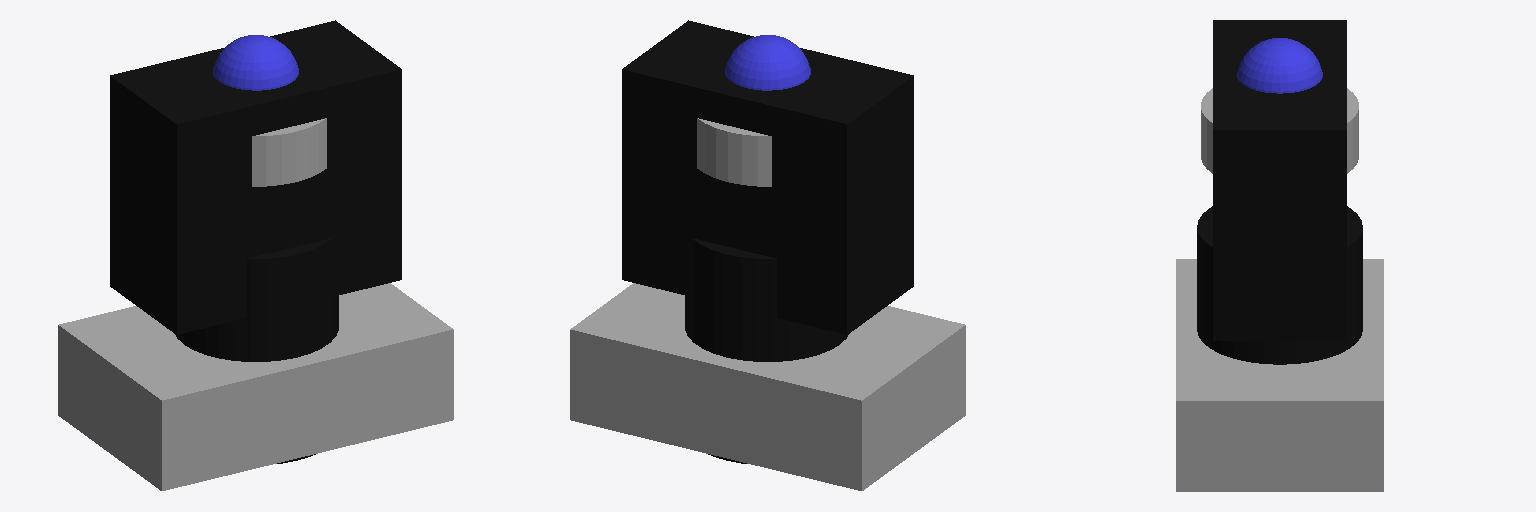
The robot description file, URDF, robot "evolved_robot":
<?xml version="1.0"?>
<robot name="evolved_robot">
  <material name="metal">
    <color rgba="0.7 0.7 0.7 1.0"/>
  </material>
  <material name="plastic">
    <color rgba="0.3 0.3 0.9 1.0"/>
  </material>
  <material name="rubber">
    <color rgba="0.1 0.1 0.1 1.0"/>
  </material>
  <material name="red">
    <color rgba="1.0 0.0 0.0 1.0"/>
  </material>
  <material name="wheel_material">
    <color rgba="0.2 0.2 0.2 1.0"/>
  </material>
  <link name="base_link">
    <visual>
      <geometry><box size="0.30694219765450376 0.18882328908058985 0.09127818576248228"/></geometry>
      <material name="metal"/>
    </visual>
    <collision>
      <geometry><box size="0.30694219765450376 0.18882328908058985 0.09127818576248228"/></geometry>
    </collision>
    <inertial>
      <mass value="5.0"/>
      <inertia ixx="0.03665495141275185" ixy="0" ixz="0" 
               iyy="0.08545434991422224" iyz="0" 
               izz="0.10822312266682371"/>
    </inertial>
  </link>
  <link name="link1">
    <visual>
      <geometry><cylinder radius="0.07570620283655916" length="0.20718310892229114"/></geometry>
      <material name="rubber"/>
    </visual>
    <collision>
      <geometry><cylinder radius="0.07570620283655916" length="0.20718310892229114"/></geometry>
    </collision>
    <inertial>
      <mass value="0.5"/>
      <inertia ixx="0.005009927338874722" ixy="0" ixz="0" 
               iyy="0.005009927338874722" iyz="0" 
               izz="0.0028657145739651186"/>
    </inertial>
  </link>
  <joint name="joint1" type="revolute">
    <parent link="base_link"/>
    <child link="link1"/>
    <origin xyz="0 0 0.04563909288124114" rpy="0 0 0"/>
    <axis xyz="-0.5727563213964585 0.7025951768490016 -0.4222679407306652"/>
    <dynamics damping="0.8837598170592937" friction="0.1"/>
    <limit lower="-2.135188986934218" upper="0.942" effort="100" velocity="100"/>
  </joint>
  <link name="link2">
    <visual>
      <geometry>
        <cylinder radius="0.05414362154083399" length="0.04821138832144219"/>
      </geometry>
      <material name="wheel_material"/>
    </visual>
    <collision>
      <geometry>
        <cylinder radius="0.05414362154083399" length="0.04821138832144219"/>
      </geometry>
    </collision>
    <inertial>
      <mass value="1.0"/>
      <inertia ixx="0.0009265777687126733" ixy="0" ixz="0" 
               iyy="0.0009265777687126733" iyz="0" 
               izz="0.0014657658767785312"/>
    </inertial>
  </link>
  <joint name="joint2" type="continuous">
    <parent link="base_link"/>
    <child link="link2"/>
    <origin xyz="0 0 0" rpy="1.5708 0 0"/>
    <axis xyz="0 0 1"/>
    <dynamics damping="0.22772052215840985" friction="0.1"/>
  </joint>
  <link name="link3">
    <visual>
      <geometry><sphere radius="0.027872111082802867"/></geometry>
      <material name="plastic"/>
    </visual>
    <collision>
      <geometry><sphere radius="0.027872111082802867"/></geometry>
    </collision>
    <inertial>
      <mass value="0.5"/>
      <inertia ixx="0.00031074183048484096" ixy="0" ixz="0" 
               iyy="0.00031074183048484096" iyz="0" 
               izz="0.00031074183048484096"/>
    </inertial>
  </link>
  <joint name="joint3" type="revolute">
    <parent link="base_link"/>
    <child link="link3"/>
    <origin xyz="0 0 0.09563909288124114" rpy="0 0 0"/>
    <axis xyz="-0.7806693274806077 -0.28442484771684934 -0.5564691430189305"/>
    <dynamics damping="0.8006336577116039" friction="0.1"/>
    <limit lower="-1.2224570633500735" upper="1.4118228454048378" effort="100" velocity="100"/>
  </joint>
  <link name="link4">
    <visual>
      <geometry><cylinder radius="0.05403114403361782" length="0.23730455389415234"/></geometry>
      <material name="metal"/>
    </visual>
    <collision>
      <geometry><cylinder radius="0.05403114403361782" length="0.23730455389415234"/></geometry>
    </collision>
    <inertial>
      <mass value="0.5"/>
      <inertia ixx="0.005422628739637276" ixy="0" ixz="0" 
               iyy="0.005422628739637276" iyz="0" 
               izz="0.0014596822627907773"/>
    </inertial>
  </link>
  <joint name="joint4" type="revolute">
    <parent link="base_link"/>
    <child link="link4"/>
    <origin xyz="0 0 0.14563909288124116" rpy="0 0 0"/>
    <axis xyz="0.009936267160238954 -0.7932295186325096 0.6088416882613719"/>
    <dynamics damping="0.30098287863004475" friction="0.1"/>
    <limit lower="-1.7542596570890534" upper="0.3130250528643158" effort="100" velocity="100"/>
  </joint>
  <link name="link5">
    <visual>
      <geometry><box size="0.23731708769120102 0.12155023255427397 0.21169919374858331"/></geometry>
      <material name="rubber"/>
    </visual>
    <collision>
      <geometry><box size="0.23731708769120102 0.12155023255427397 0.21169919374858331"/></geometry>
    </collision>
    <inertial>
      <mass value="0.5"/>
      <inertia ixx="0.004965917305649859" ixy="0" ixz="0" 
               iyy="0.008427995728669452" iyz="0" 
               izz="0.005924488262019273"/>
    </inertial>
  </link>
  <joint name="joint5" type="fixed">
    <parent link="base_link"/>
    <child link="link5"/>
    <origin xyz="0 0 0.19563909288124115" rpy="0 0 0"/>
    <axis xyz="0.6860512407248723 0.32968485701972966 0.6485688784946003"/>
    <dynamics damping="0.37199240873165673" friction="0.1"/>
  </joint>
  <link name="link6">
    <visual>
      <geometry><cylinder radius="0.07238872046789144" length="0.05065871649703593"/></geometry>
      <material name="metal"/>
    </visual>
    <collision>
      <geometry><cylinder radius="0.07238872046789144" length="0.05065871649703593"/></geometry>
    </collision>
    <inertial>
      <mass value="0.5"/>
      <inertia ixx="0.0015238905091718863" ixy="0" ixz="0" 
               iyy="0.0015238905091718863" iyz="0" 
               izz="0.0026200634254892625"/>
    </inertial>
  </link>
  <joint name="joint6" type="fixed">
    <parent link="base_link"/>
    <child link="link6"/>
    <origin xyz="0 0 0.24563909288124114" rpy="0 0 0"/>
    <axis xyz="-0.8813528690894579 -0.15222645485110534 -0.4472630395988982"/>
    <dynamics damping="0.8577374199219947" friction="0.1"/>
  </joint>
  <link name="link7">
    <visual>
      <geometry><sphere radius="0.03981167007748032"/></geometry>
      <material name="plastic"/>
    </visual>
    <collision>
      <geometry><sphere radius="0.03981167007748032"/></geometry>
    </collision>
    <inertial>
      <mass value="0.5"/>
      <inertia ixx="0.0006339876297432568" ixy="0" ixz="0" 
               iyy="0.0006339876297432568" iyz="0" 
               izz="0.0006339876297432568"/>
    </inertial>
  </link>
  <joint name="joint7" type="revolute">
    <parent link="base_link"/>
    <child link="link7"/>
    <origin xyz="0 0 0.29563909288124113" rpy="0 0 0"/>
    <axis xyz="0.6387582277925299 0.04692248726542942 -0.7679753945382443"/>
    <dynamics damping="0.1" friction="0.1"/>
    <limit lower="-1.3407345623772549" upper="0.0" effort="100" velocity="100"/>
  </joint>
</robot>

--- Render facts (derived) ---
Views: 3 orthographic renders of the robot side by side, from view 1: azimuth 30°, elevation 25°; view 2: azimuth 150°, elevation 25°; view 3: azimuth 270°, elevation 25°.
Model evolved_robot with 8 links and 7 joints (4 revolute, 1 continuous, 2 fixed), rooted at base_link, posed all joints at 0.
Visible links, largest first — view 1: link5, base_link, link1, link6, link7; view 2: link5, base_link, link1, link6, link7; view 3: link5, base_link, link1, link7, link6.
Link boxes in pixels (bbox=[...]): link5: bbox=[110, 20, 401, 334]; base_link: bbox=[58, 283, 453, 490]; link1: bbox=[175, 238, 338, 463]; link6: bbox=[252, 118, 326, 186]; link7: bbox=[213, 35, 298, 90]; link5: bbox=[622, 20, 913, 334]; base_link: bbox=[570, 283, 965, 490]; link1: bbox=[685, 238, 848, 463]; link6: bbox=[697, 118, 771, 186]; link7: bbox=[725, 35, 810, 90]; link5: bbox=[1213, 20, 1346, 340]; base_link: bbox=[1176, 259, 1383, 491]; link1: bbox=[1197, 206, 1362, 364]; link7: bbox=[1237, 38, 1322, 93]; link6: bbox=[1201, 88, 1358, 173].
Size in the robot's own frame: 0.3069 by 0.1888 by 0.3934 metres.
Geometry: primitives only (box / cylinder / sphere), no mesh files.